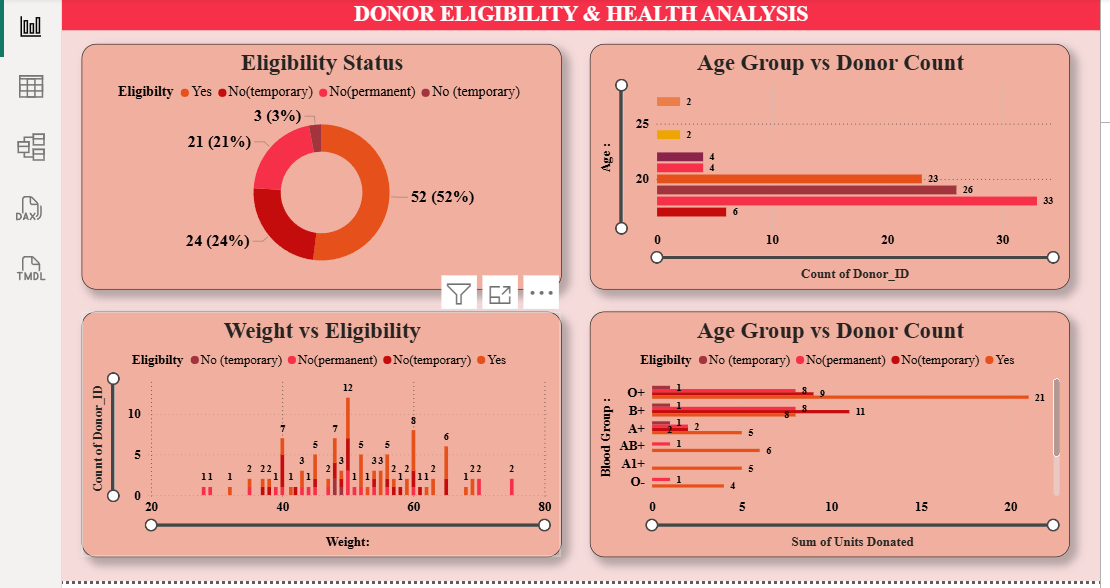

This screenshot's page, from the dashboard's own definition file:
{"tool":"powerbi","page":{"name":"Page 2","canvas":[1280,720],"ordinal":1},"visuals":[{"type":"textbox","box":[0,0,1280.3,41.2],"z":0},{"type":"donutChart","title":"Eligibility Status","fields":{"Category":["Sheet1.Eligibilty"],"Y":["CountNonNull(Sheet1.Donor_ID)"]},"box":[24.2,57.8,591.7,302.6],"z":1000},{"type":"clusteredBarChart","title":" Age Group vs Donor Count","fields":{"Category":["Sheet1.Age :"],"Y":["CountNonNull(Sheet1.Donor_ID)"]},"box":[650.9,57.8,591.7,302.6],"z":2000},{"type":"columnChart","title":"Weight vs Eligibility","fields":{"Category":["Sheet1.Weight:"],"Y":["CountNonNull(Sheet1.Donor_ID)"],"Series":["Sheet1.Eligibilty"]},"box":[24.2,387.3,591.7,302.6],"z":3000},{"type":"clusteredBarChart","title":" Age Group vs Donor Count","fields":{"Category":["Sheet1.Blood Group :"],"Y":["Sum(Sheet1.Units Donated)"],"Series":["Sheet1.Eligibilty"]},"box":[650.9,388.7,591.7,302.6],"z":4000}]}

Visuals, with their boxes on the page's 1280x720 design canvas (x1, y1, x2, y2). These are canvas units, not pixel positions in the 1110x588 screenshot, which may show the page scaled, cropped or inside an application window:
textbox: [left=0, top=0, right=1280, bottom=41]
"Eligibility Status" donutChart: [left=24, top=58, right=616, bottom=360]
" Age Group vs Donor Count" clusteredBarChart: [left=651, top=58, right=1243, bottom=360]
"Weight vs Eligibility" columnChart: [left=24, top=387, right=616, bottom=690]
" Age Group vs Donor Count" clusteredBarChart: [left=651, top=389, right=1243, bottom=691]
